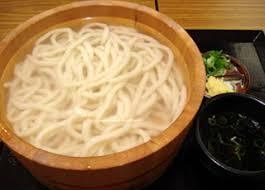kamaage: (1, 1, 217, 190)
